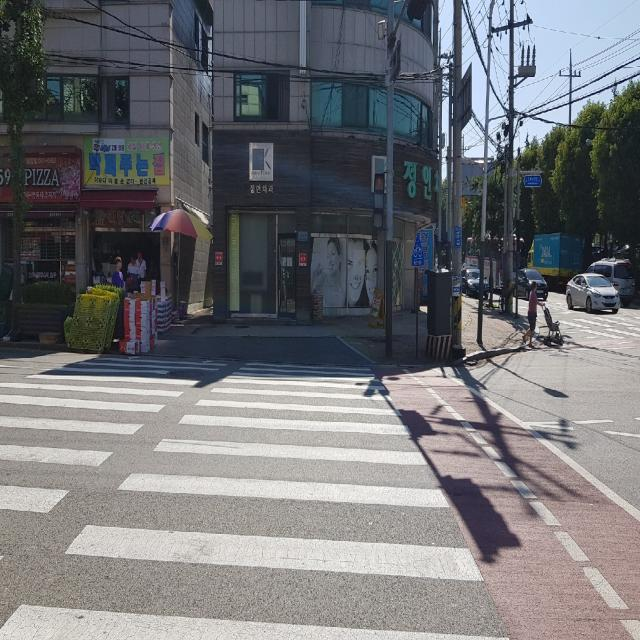빨간불: (372, 171, 388, 221)
횡단보도: (0, 353, 512, 639)
